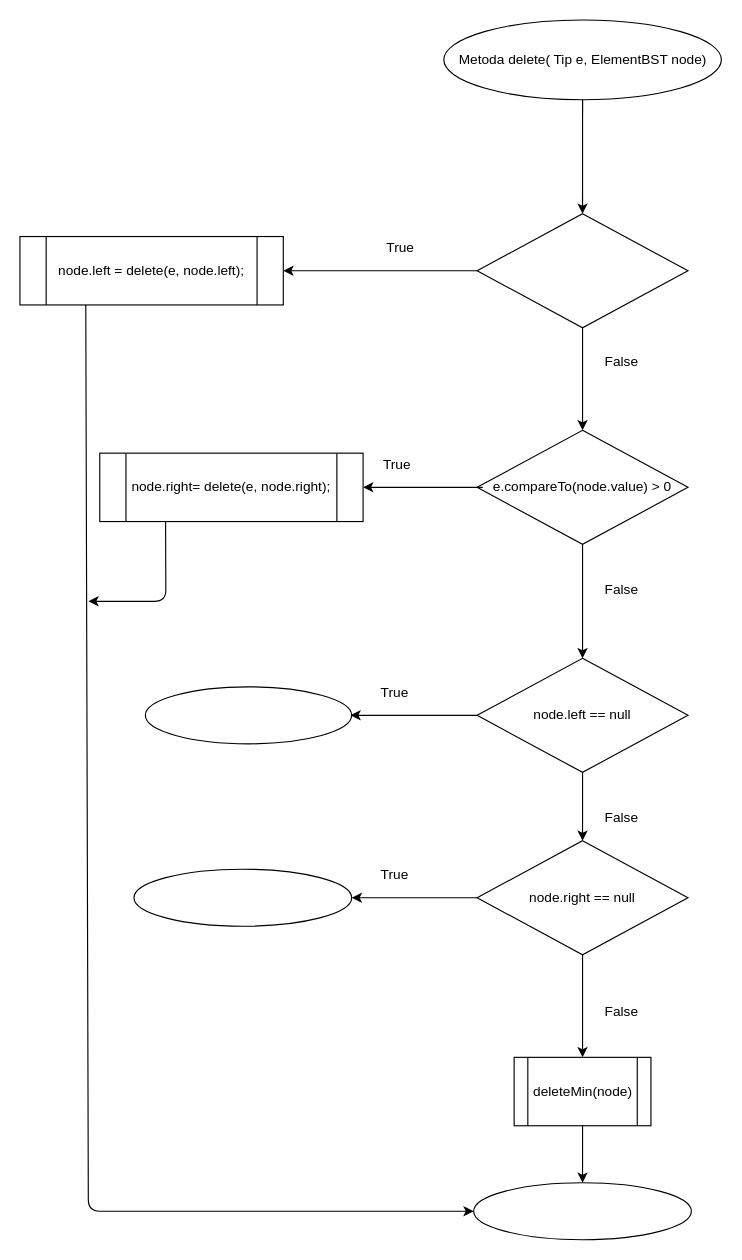
Some shapes in this 742 by 1260 pixel diagram are drawn without their labels. The shapes that lost their labels are listed below. From the top down, each one's centre as x and y in pixels, then its label:
point 582,270: e.compareTo(node.value) < 0
point 248,715: return node.right;
point 242,897: return node.left;
point 582,1211: return node;
